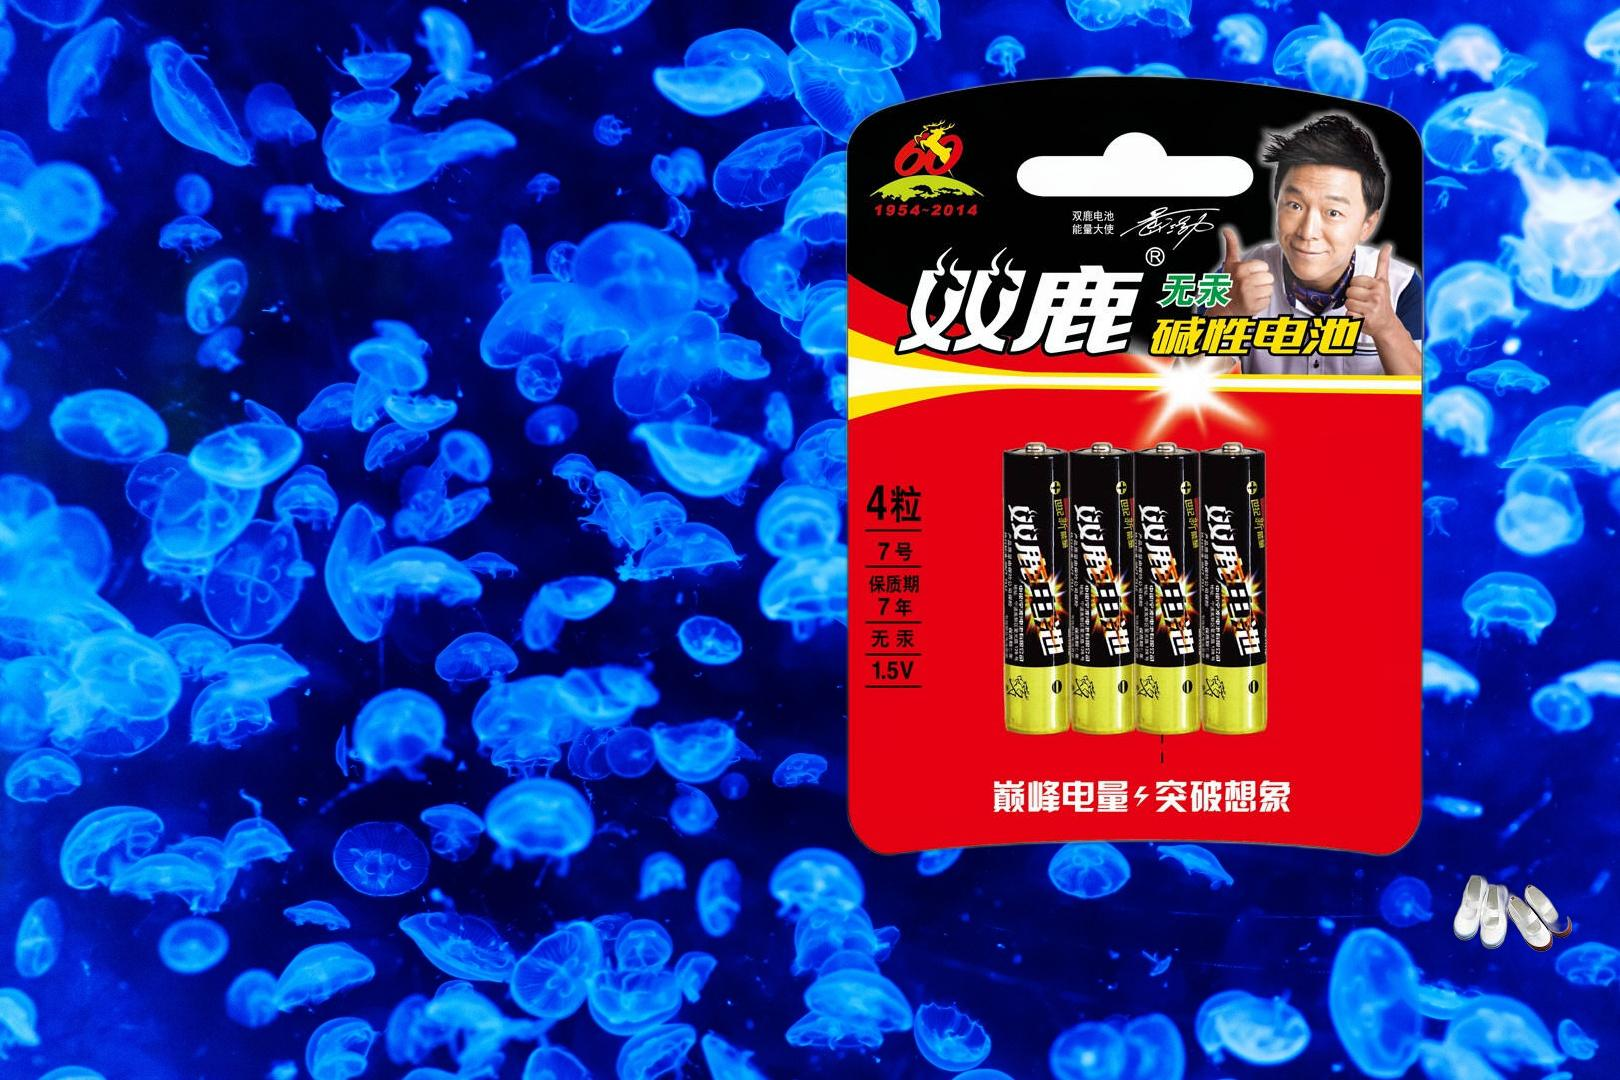battery: (839, 66, 1431, 864)
shoes: (1450, 871, 1575, 955)
